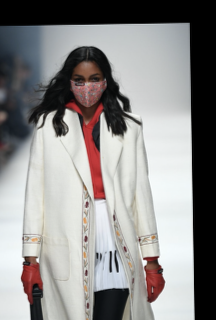with_mask: (68, 69, 107, 106)
